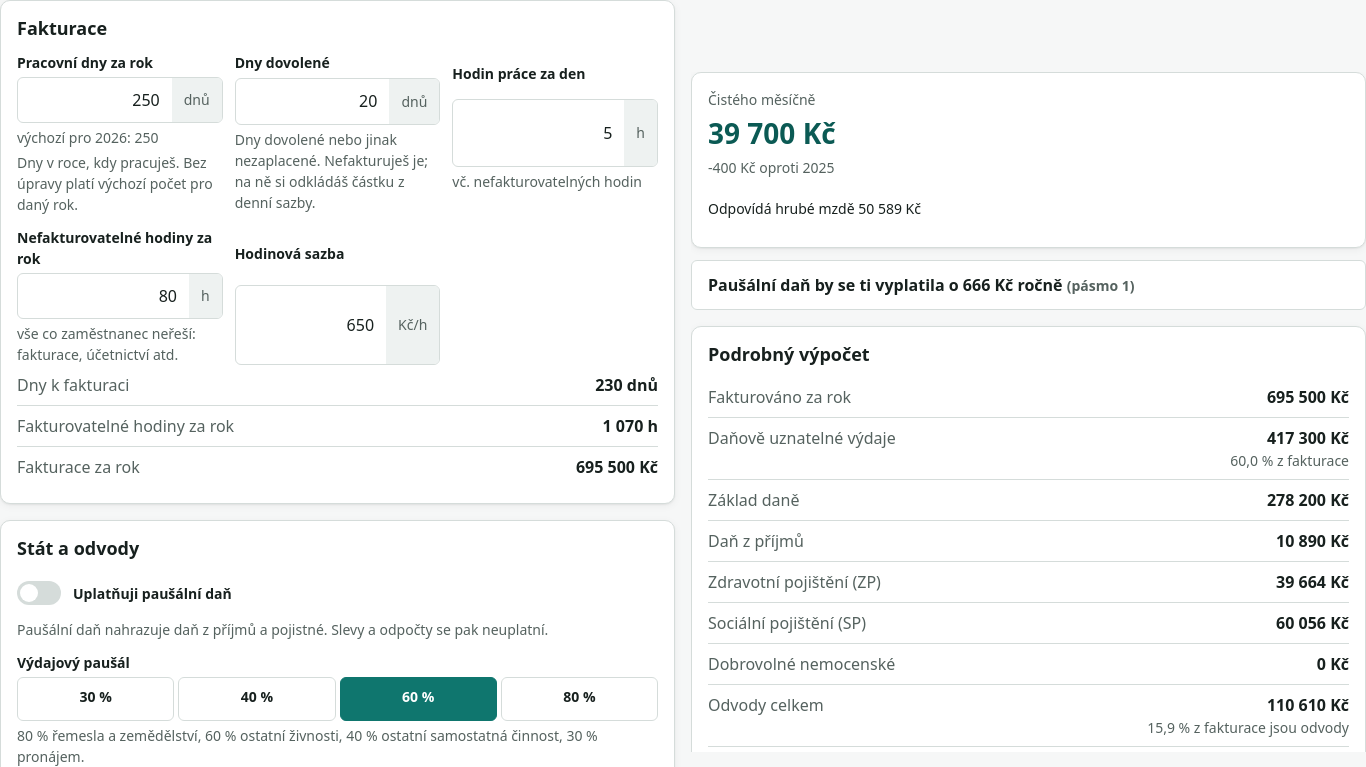
Scenario: CalcScreen with the 2026 defaults › shows the working days default and a reset to it after an edit
The width and height of the screenshot is (1366, 767).
Replace the text in the field labelled "Pracovní dny za rok" with "240". click: (95, 100)
box: x1=18 y1=78 x2=172 y2=122
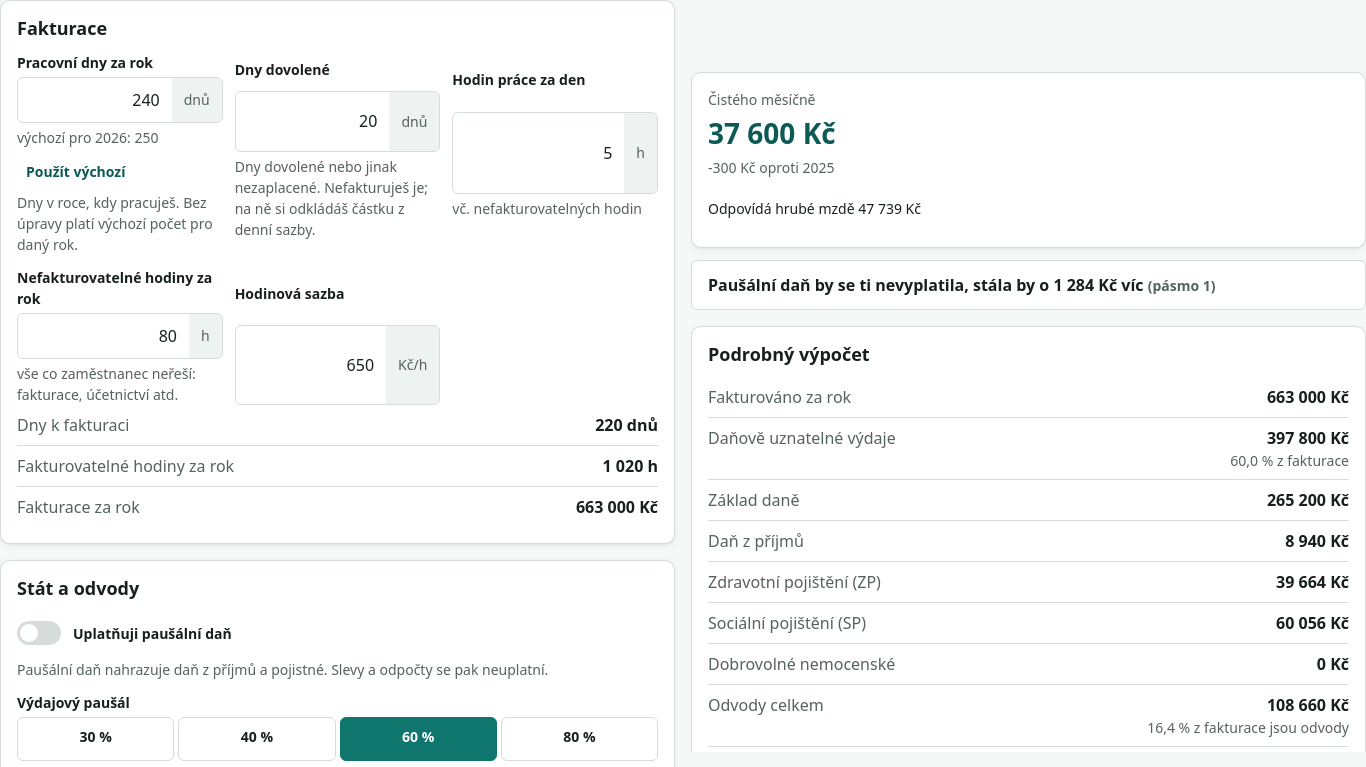
Click the button "Použít výchozí". click: (76, 172)
box: x1=17 y1=156 x2=134 y2=188
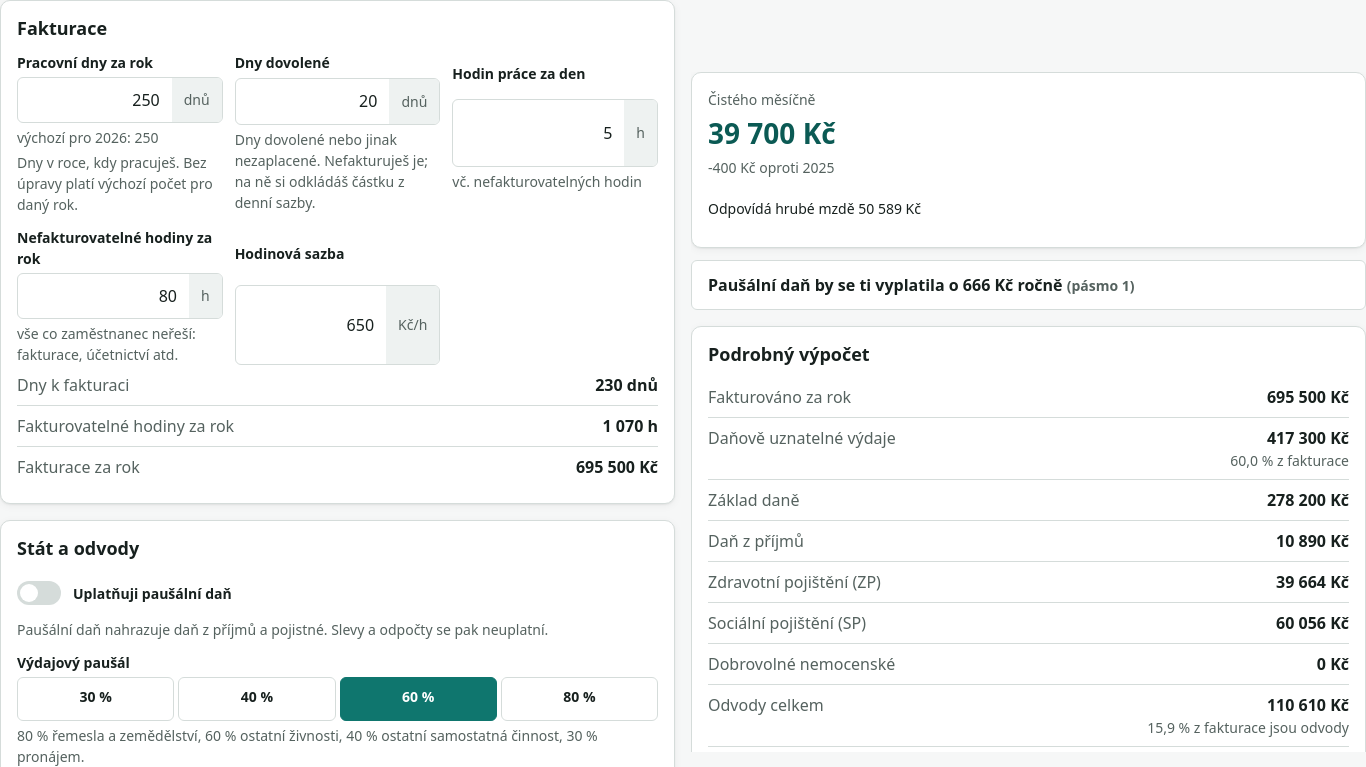
expect the field labelled "Pracovní dny za rok" holds "250": met, box x1=18 y1=78 x2=172 y2=122
